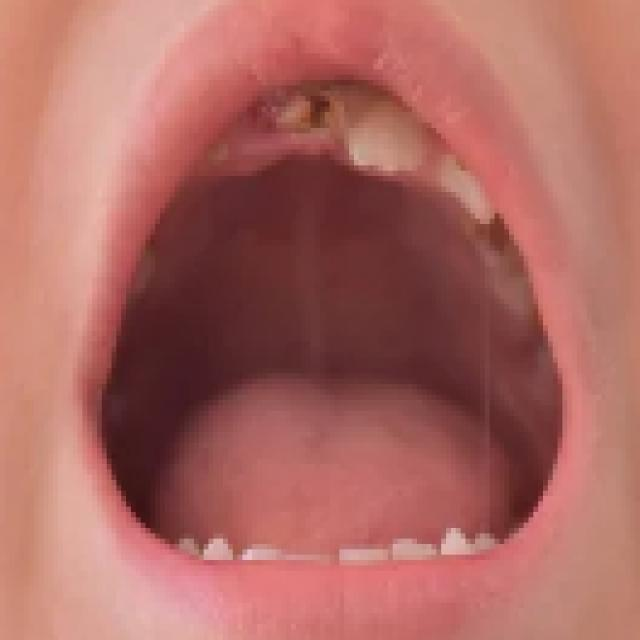No Cancer: (171, 234, 489, 522)
